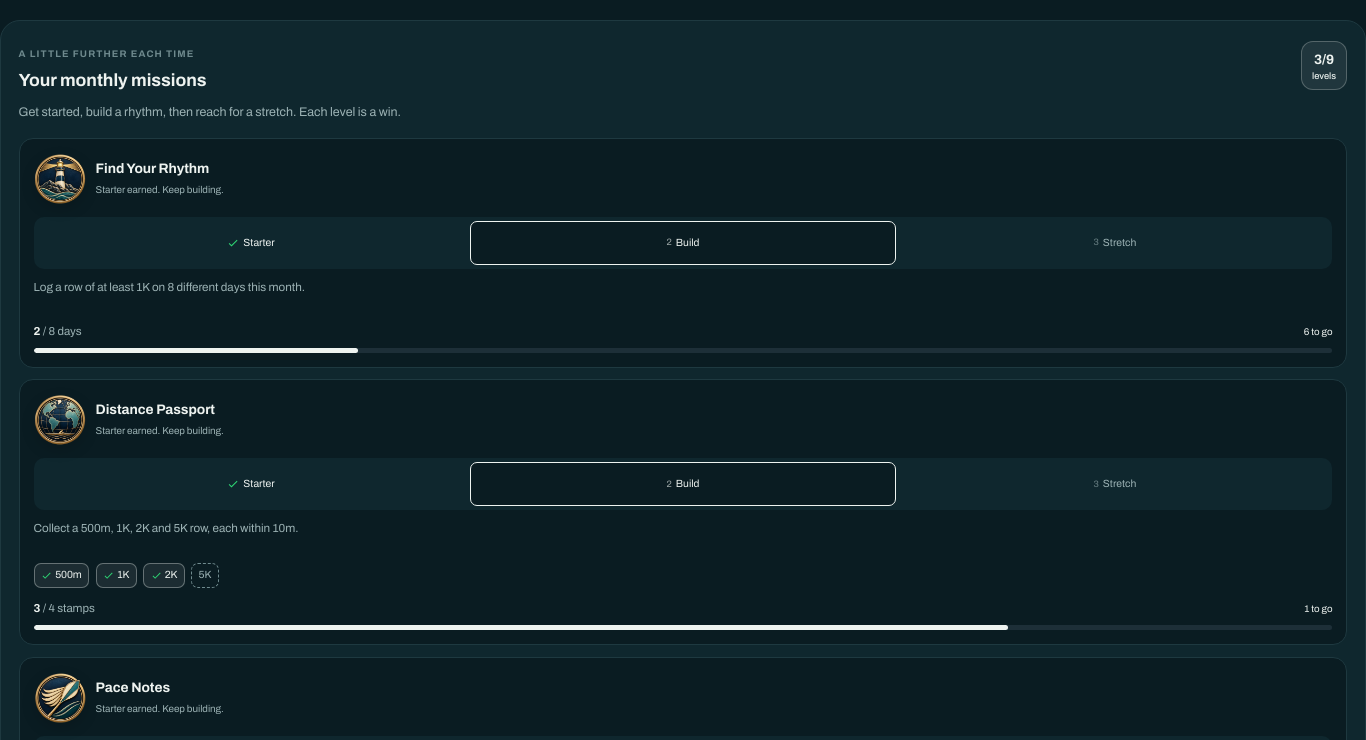
Test: reviewing Starter keeps earned progress visible and does not lose the harder levels
Step 1. Click the button "Starter" below "Find Your Rhythm" → (251, 243), box [38,221,464,265]
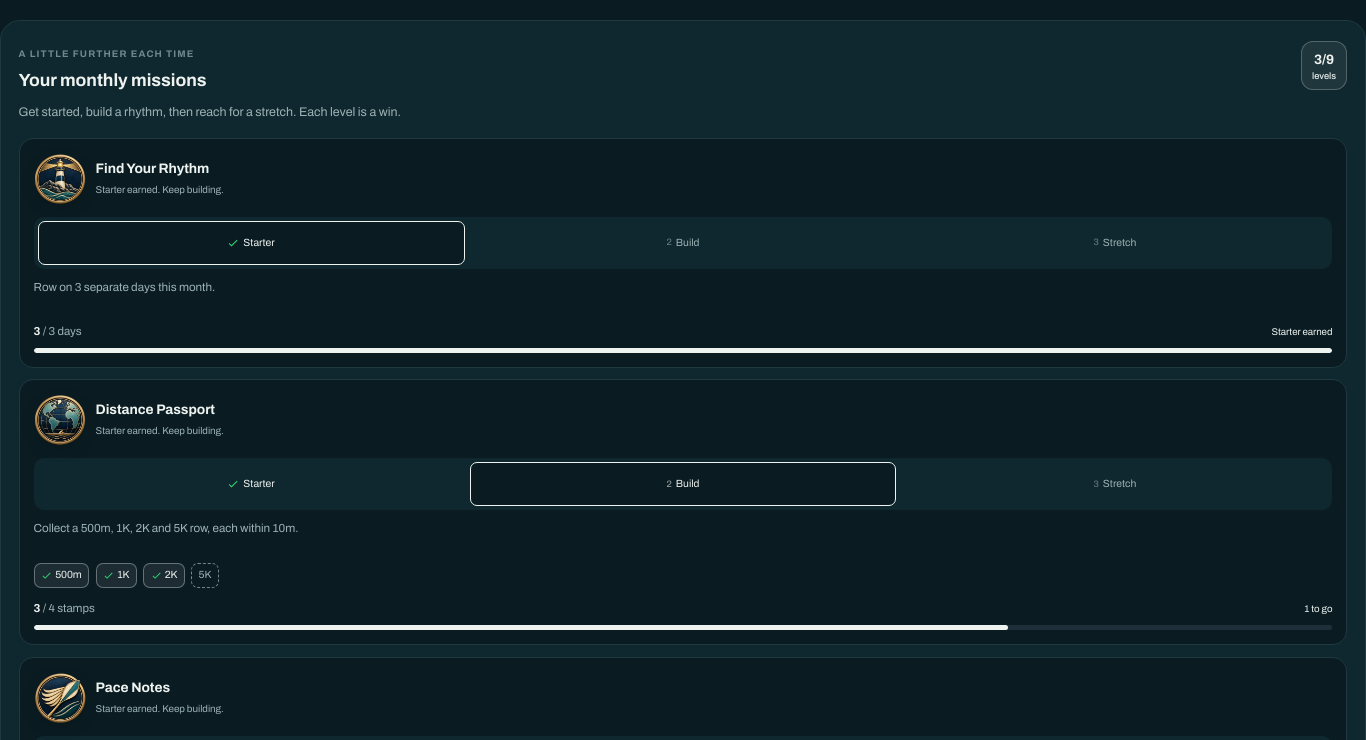
Result: the text with class "mission-requirement" reads "Row on 3 separate days this month." at [34,281,215,293]
Result: the element with class "mission-numbers" shows "Starter earned" at [1272,326,1332,336]
